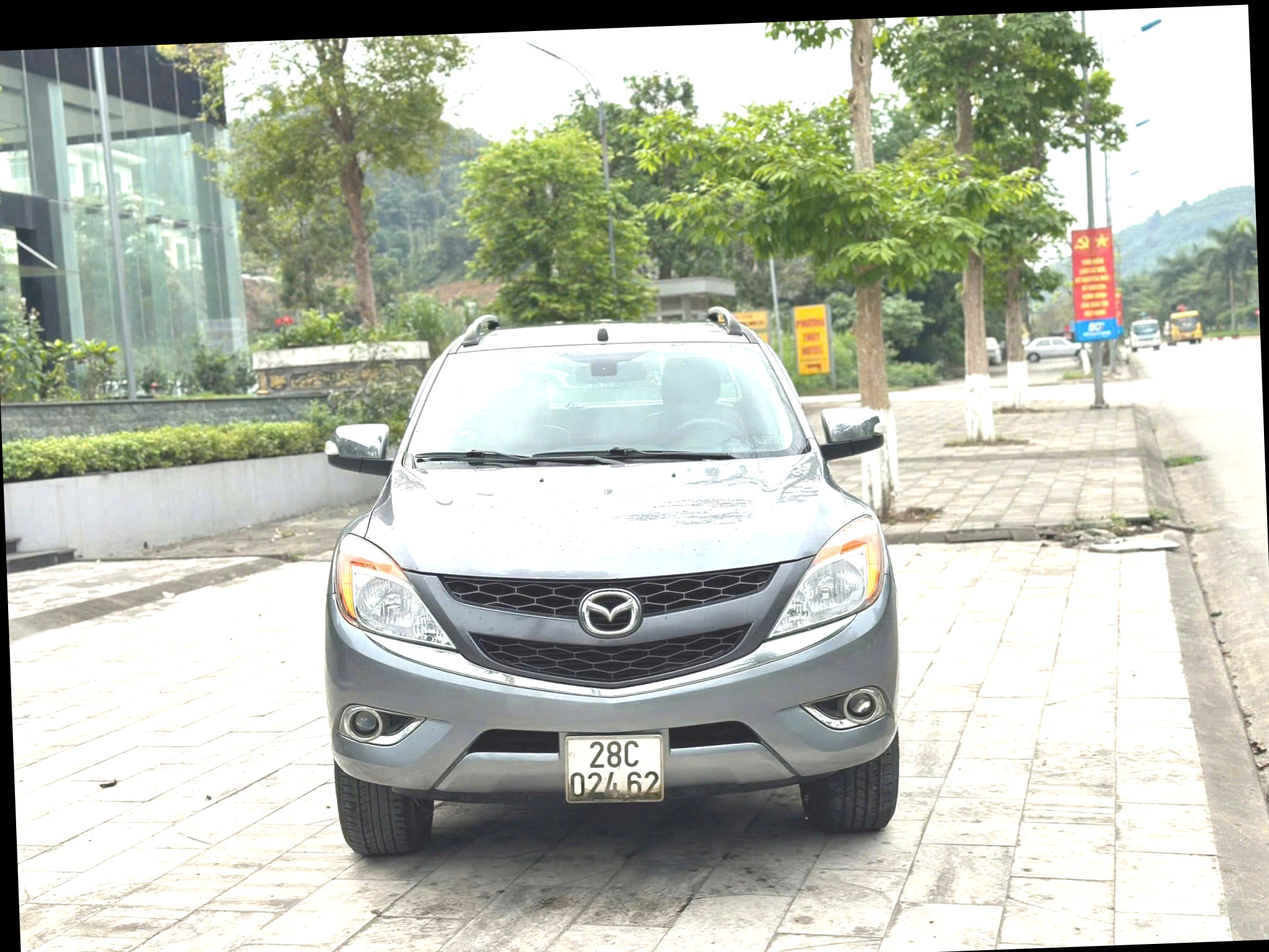Bien-so: (570, 700, 678, 782)
